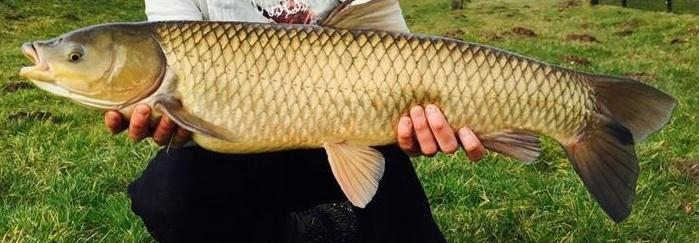Grass Carp: (21, 21, 675, 227)
